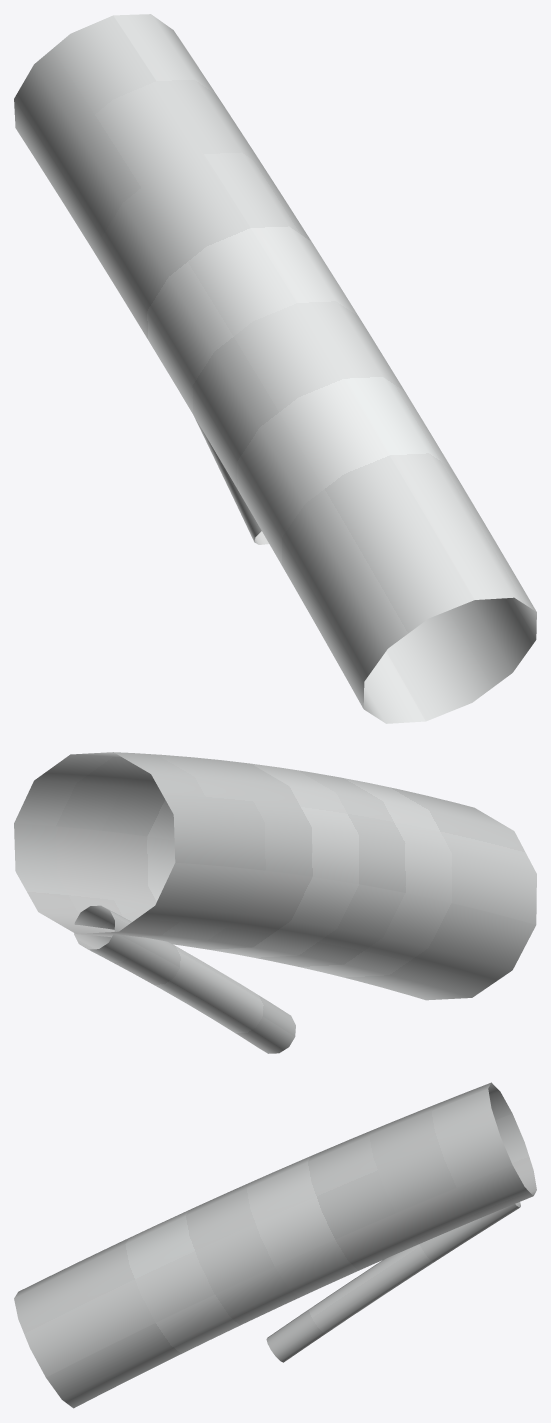
Rendered from luminairearm_laupsweep12ft_c3.obj.
The picture shows the model from 3 angles, top to bottom: view 1: azimuth 30°, elevation 25°; view 2: azimuth 150°, elevation 25°; view 3: azimuth 270°, elevation 25°; orthographic projection. The views are drawn at different scales.
Visible parts, largest first — view 1: luminairearm_laupsweep12ft_c3; view 2: luminairearm_laupsweep12ft_c3; view 3: luminairearm_laupsweep12ft_c3.
Part boxes in pixels (x1=…): luminairearm_laupsweep12ft_c3: x1=14, y1=14, x2=536, y2=723; luminairearm_laupsweep12ft_c3: x1=14, y1=752, x2=536, y2=1053; luminairearm_laupsweep12ft_c3: x1=14, y1=1082, x2=536, y2=1408.
Bounding box in the file's own units: 0.2427 × 0.6432 × 0.9739.
